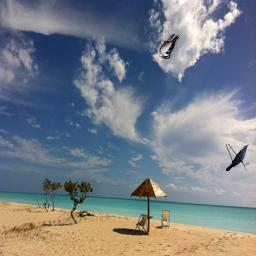Cuckoo: (226, 144, 249, 171)
Swallow: (159, 34, 179, 59)
